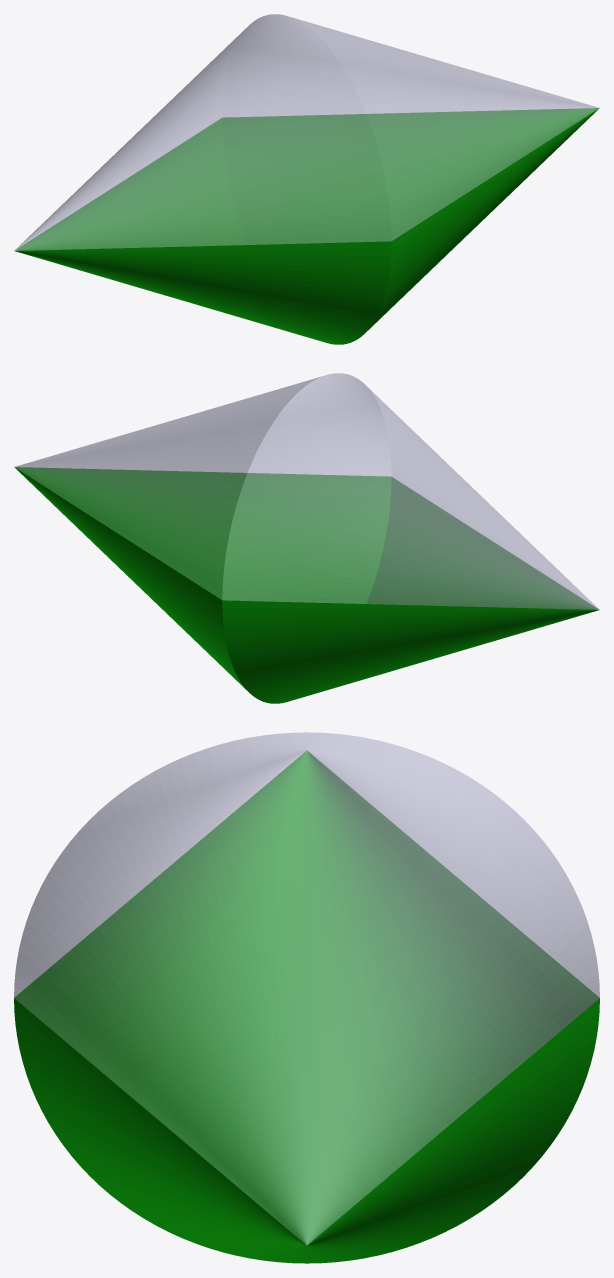
The model's file is Буй.obj.
3 renders of one model, top to bottom at view 1: azimuth 30°, elevation 25°; view 2: azimuth 150°, elevation 25°; view 3: azimuth 270°, elevation 25°, orthographic. The views are drawn at different scales.
Bounding box in the file's own units: 20 × 10 × 10.
